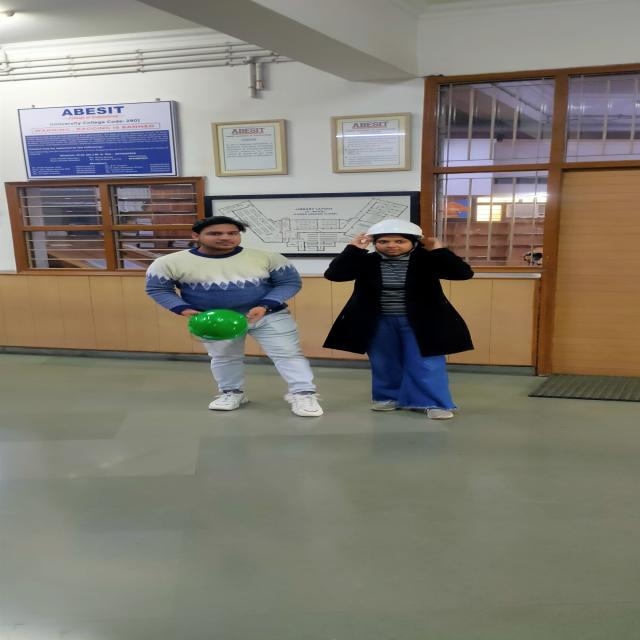no jacket: (322, 218, 475, 420)
unsafe: (144, 215, 324, 417)
